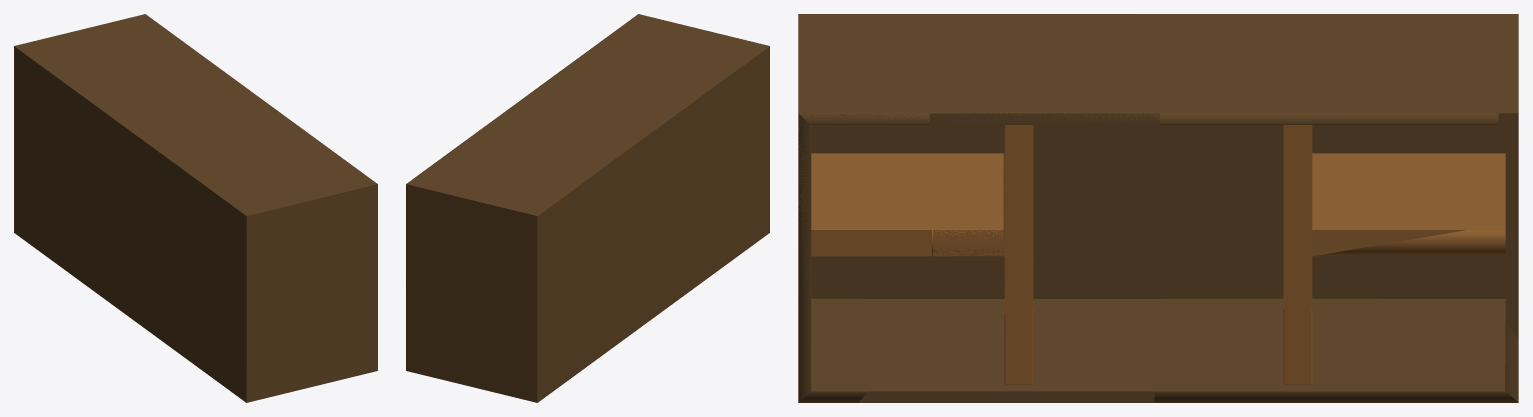
File: TV stand.fbx
3 views of the same model, side by side, from view 1: azimuth 30°, elevation 25°; view 2: azimuth 150°, elevation 25°; view 3: azimuth 270°, elevation 25° (orthographic). The views are drawn at different scales.
Visible parts, largest first — view 1: TV_stand1, TV_stand1_cell.006, TV_stand1_cell.007, TV_stand1_cell.003, TV_stand1_cell, TV_stand1_cell.009; view 2: TV_stand1, TV_stand1_cell.007, TV_stand1_cell, TV_stand1_cell.006, TV_stand1_cell.003, TV_stand1_cell.009; view 3: TV_stand1, TV_stand1_cell, TV_stand1_cell.008, TV_stand1_cell.007, TV_stand1_cell.003, TV_stand1_cell.001, TV_stand1_cell.005, TV_stand1_cell.002, TV_stand1_cell.009, TV_stand1_cell.010, TV_stand1_cell.006.
Part boxes in pixels (box(x1,y1,x2,y2)): TV_stand1: box(14, 19, 377, 401); TV_stand1_cell.006: box(197, 180, 377, 402); TV_stand1_cell.007: box(80, 32, 238, 267); TV_stand1_cell.003: box(137, 137, 196, 291); TV_stand1_cell: box(14, 14, 151, 93); TV_stand1_cell.009: box(140, 19, 260, 104); TV_stand1: box(406, 14, 769, 402); TV_stand1_cell.007: box(447, 104, 660, 305); TV_stand1_cell: box(406, 168, 602, 402); TV_stand1_cell.006: box(720, 47, 769, 244); TV_stand1_cell.003: box(661, 83, 720, 238); TV_stand1_cell.009: box(415, 99, 544, 178); TV_stand1: box(798, 14, 1518, 402); TV_stand1_cell: box(1316, 14, 1518, 364); TV_stand1_cell.008: box(858, 198, 1164, 402); TV_stand1_cell.007: box(1136, 14, 1463, 95); TV_stand1_cell.003: box(929, 113, 1159, 313); TV_stand1_cell.001: box(1329, 153, 1505, 229); TV_stand1_cell.005: box(1283, 125, 1467, 309); TV_stand1_cell.002: box(1312, 153, 1463, 227); TV_stand1_cell.009: box(1157, 96, 1497, 113); TV_stand1_cell.010: box(811, 230, 931, 256); TV_stand1_cell.006: box(798, 113, 928, 340).
Size of the model in its own units: 61.76 by 83.98 by 189.
